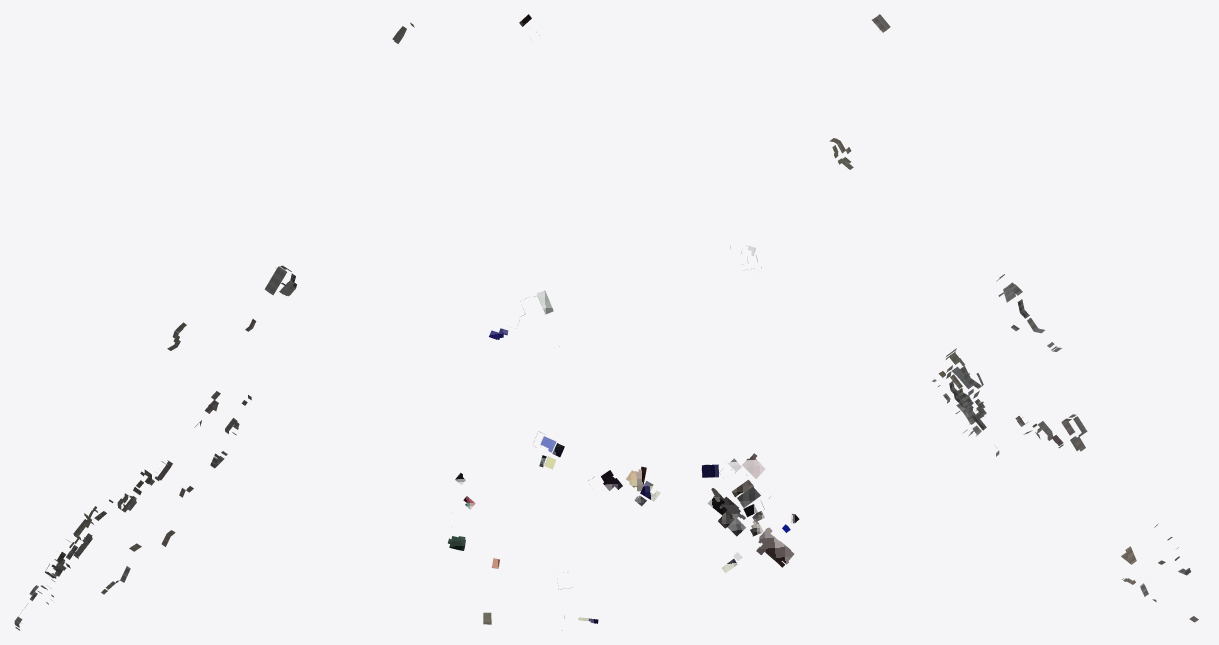
Rendered from tile_LOD4_r2_c0.glb.
3 renders of one model, left to right at view 1: azimuth 30°, elevation 25°; view 2: azimuth 150°, elevation 25°; view 3: azimuth 270°, elevation 25°, orthographic. The views are drawn at different scales.
Size of the model in its own units: 303 by 485 by 245.
Materials: 112 (112 with a texture image).
